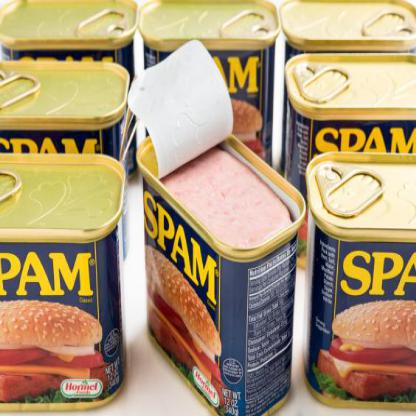spam: (131, 107, 300, 415), (0, 158, 129, 415), (312, 154, 416, 410)
